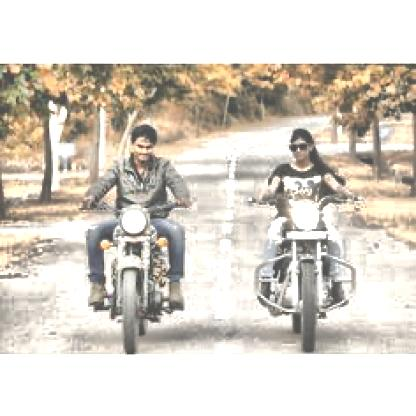not_wear: (129, 119, 158, 164), (291, 129, 315, 163)
